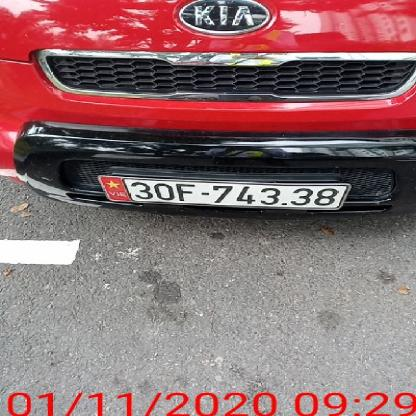biensoxe: (95, 174, 356, 212)
